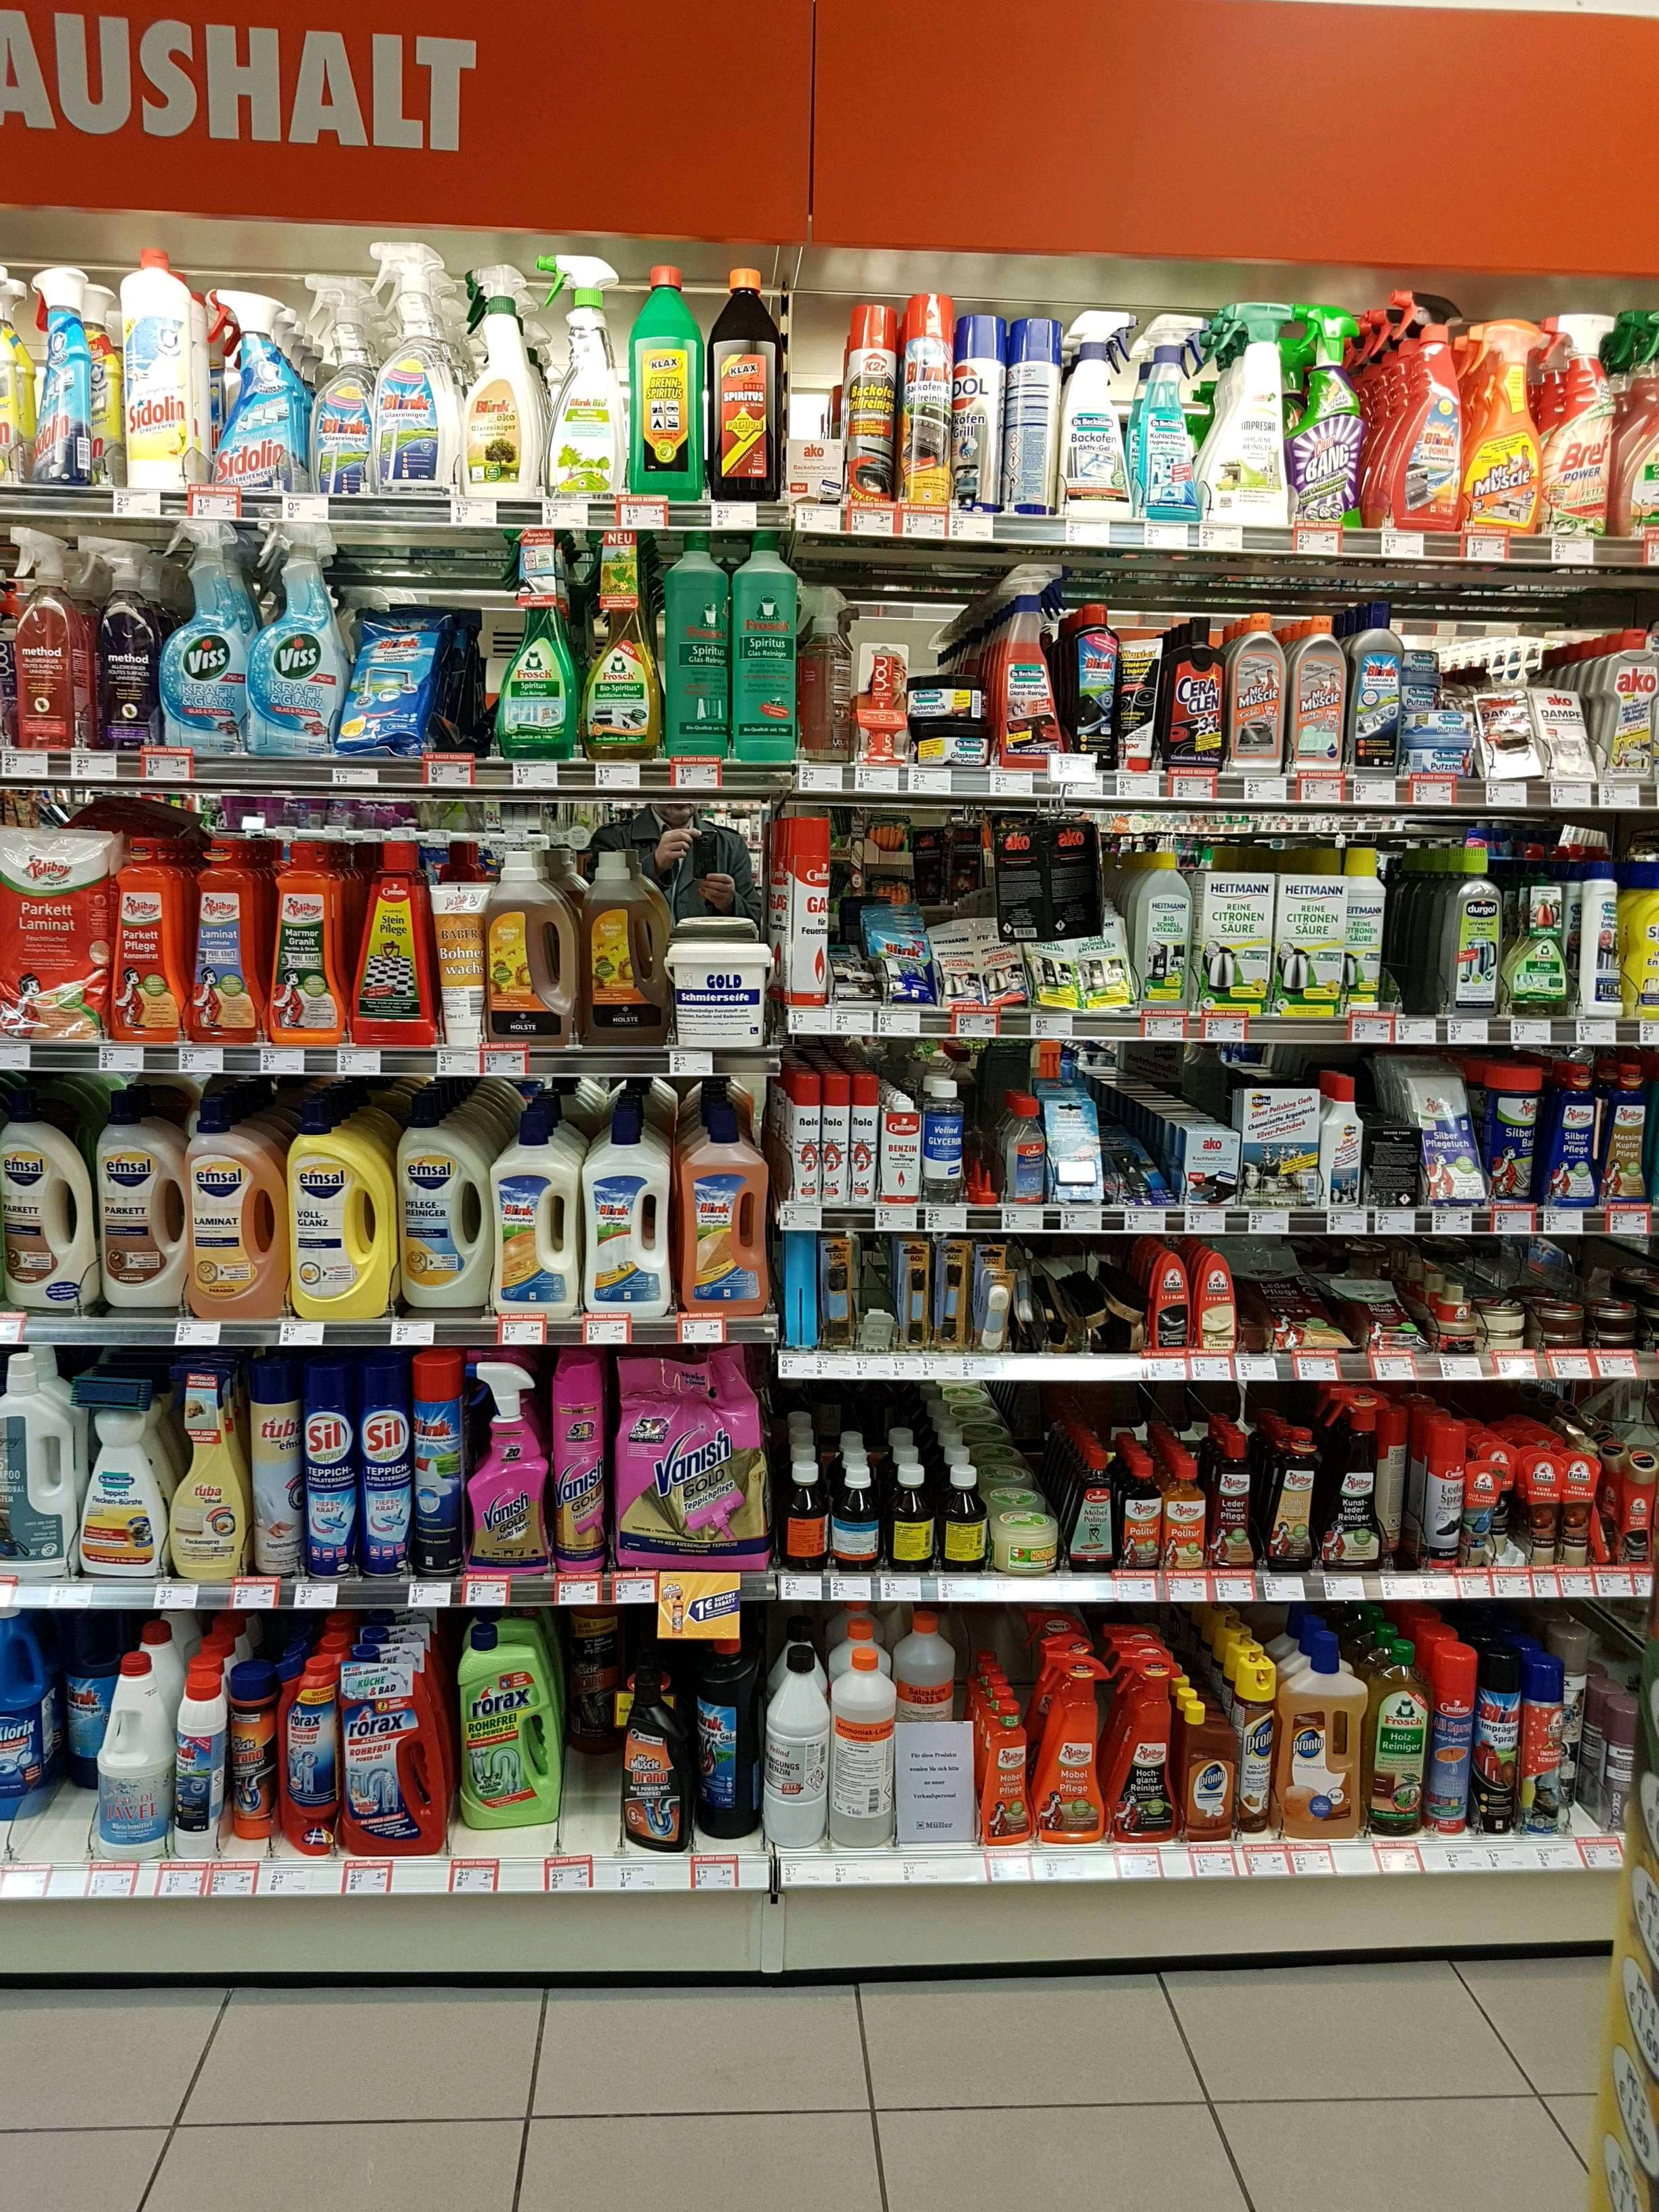misalignment: (1035, 1247, 1148, 1353), (1354, 1108, 1424, 1211), (432, 671, 502, 759), (976, 1259, 1016, 1352)
